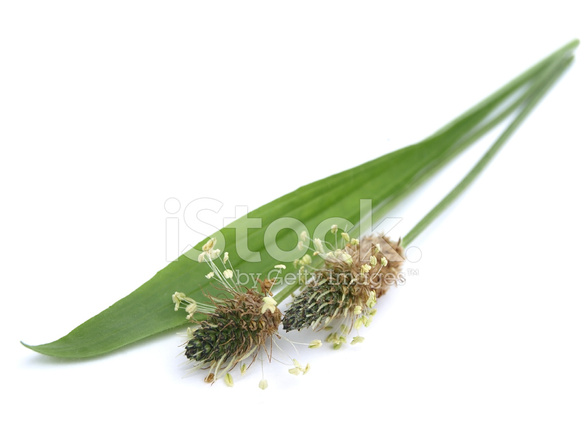buckhorn plantain: (21, 34, 576, 361)
